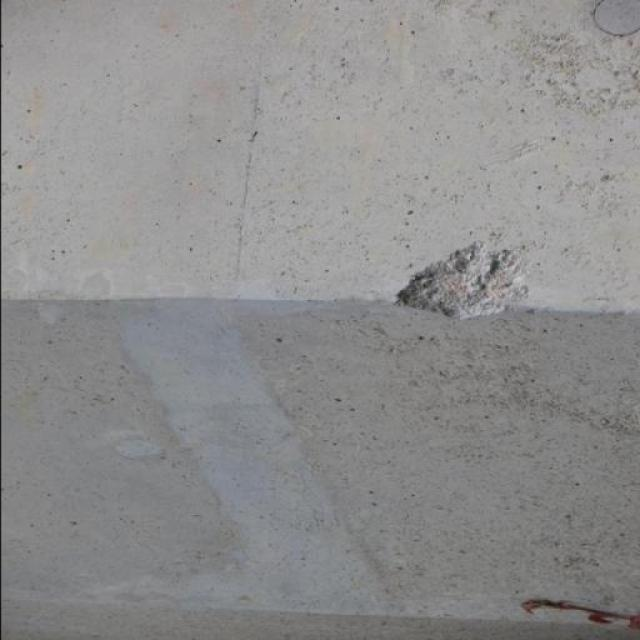D10: (395, 245, 526, 319)
